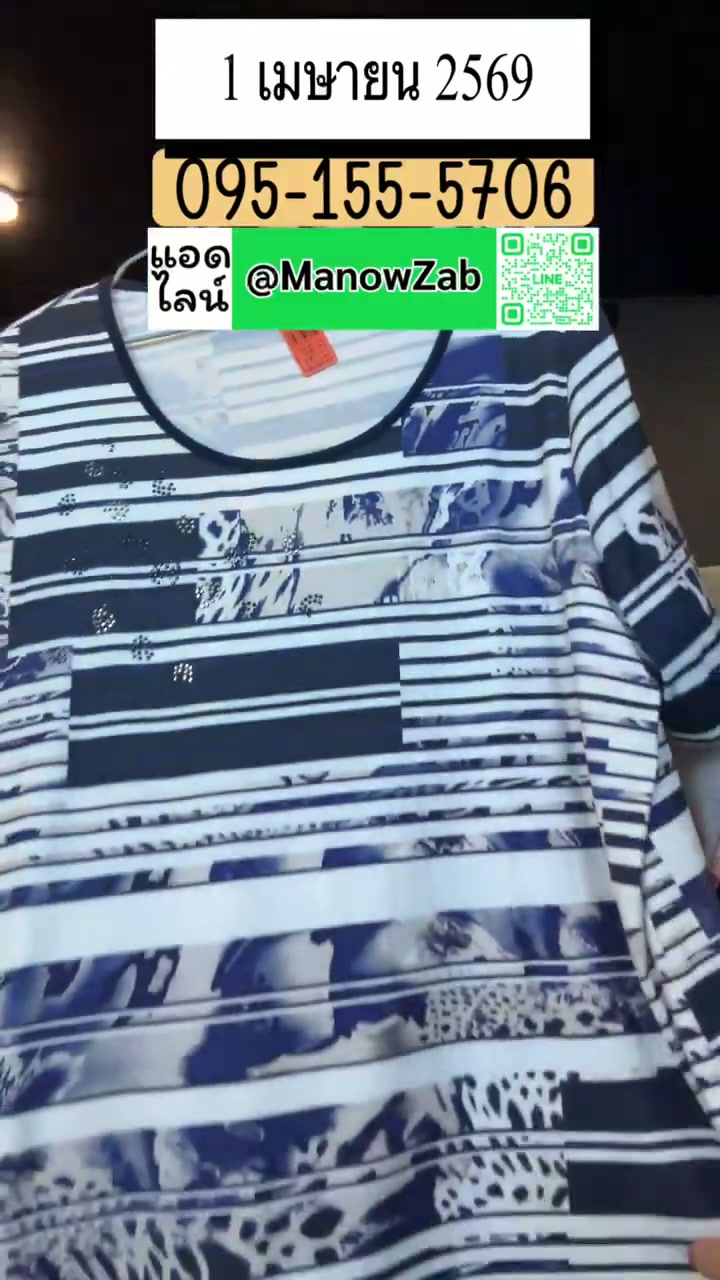display_shirt: (0, 229, 719, 1279)
